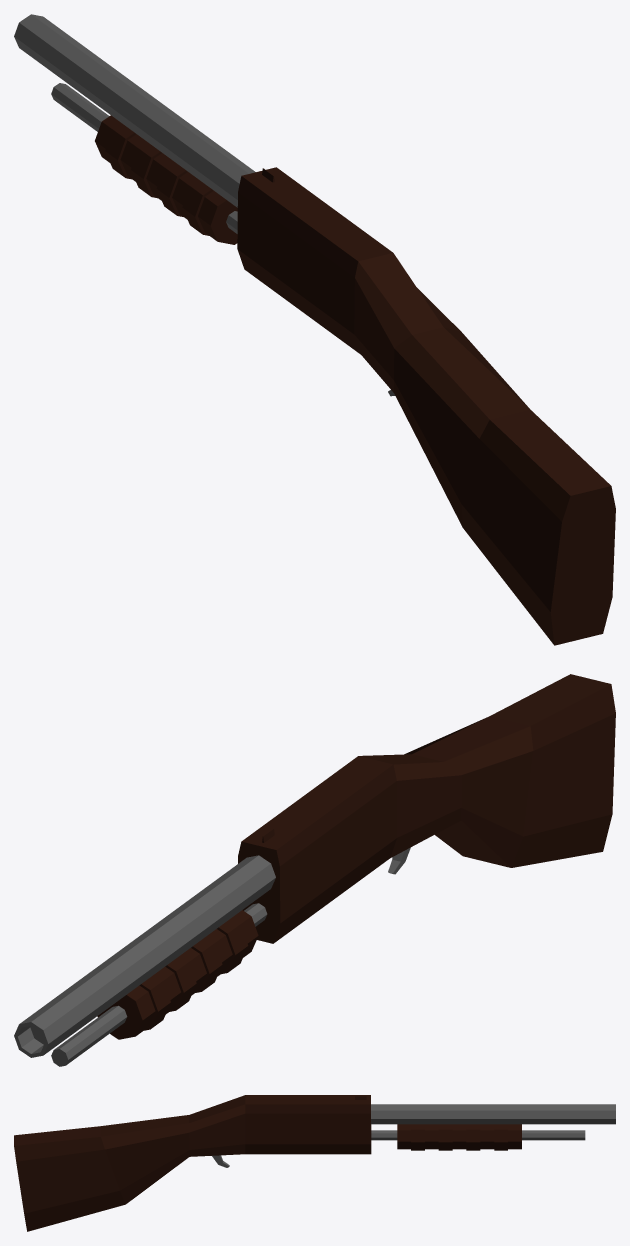
The model's file is WorseShotgun.fbx.
3 views of the same model, one above another, from view 1: azimuth 30°, elevation 25°; view 2: azimuth 150°, elevation 25°; view 3: azimuth 270°, elevation 25° (orthographic). The views are drawn at different scales.
Parts seen in each view (by area): view 1: Cube; view 2: Cube; view 3: Cube.
Part boxes in pixels (x1,y1,x2,y2): Cube: (14, 14, 615, 645); Cube: (14, 674, 615, 1066); Cube: (14, 1095, 615, 1231).
Size of the model in its own units: 54.49 by 186 by 785.
